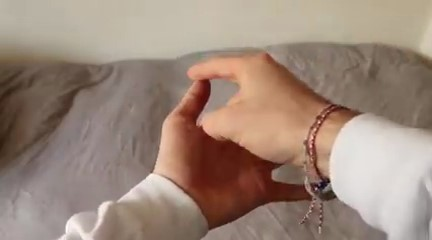A: (146, 45, 375, 231)
